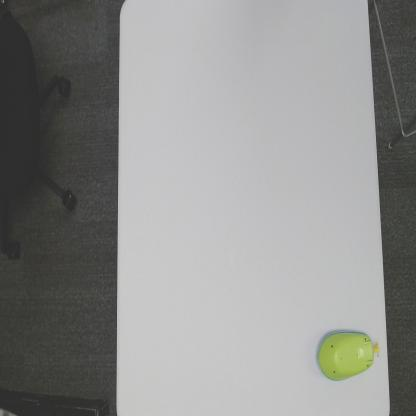Boat: (312, 319, 381, 390)
